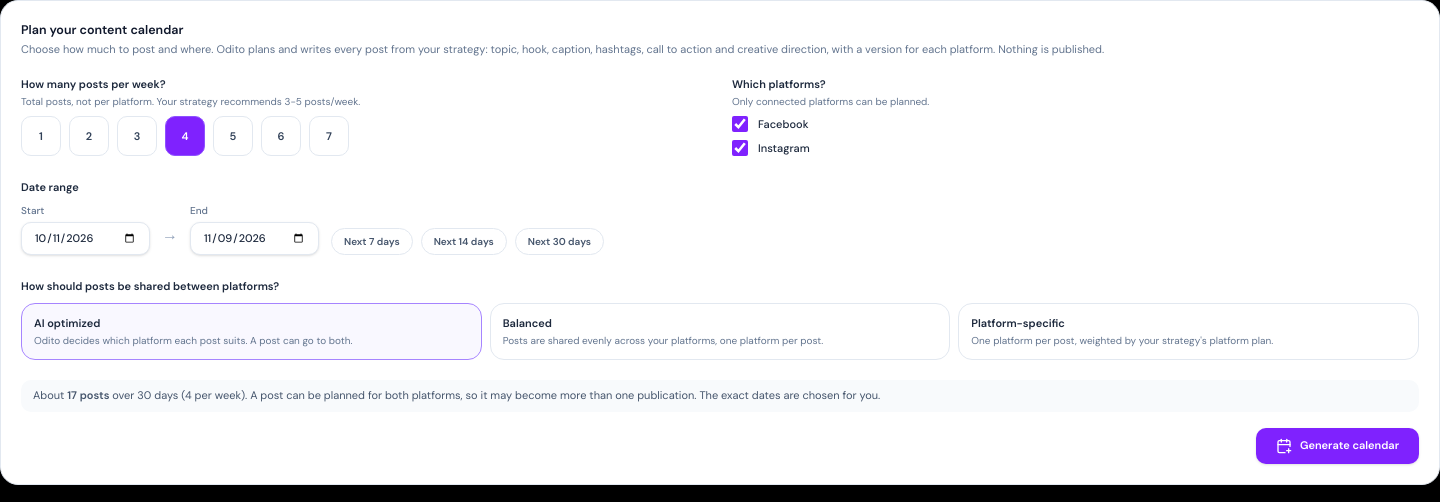
Scenario: Content plan — the planning form › summarises how many posts to expect and never doubles them per platform
The image size is (1440, 502).
Click the radio button named "2 posts per week".
click(89, 136)  # box [69, 116, 109, 156]
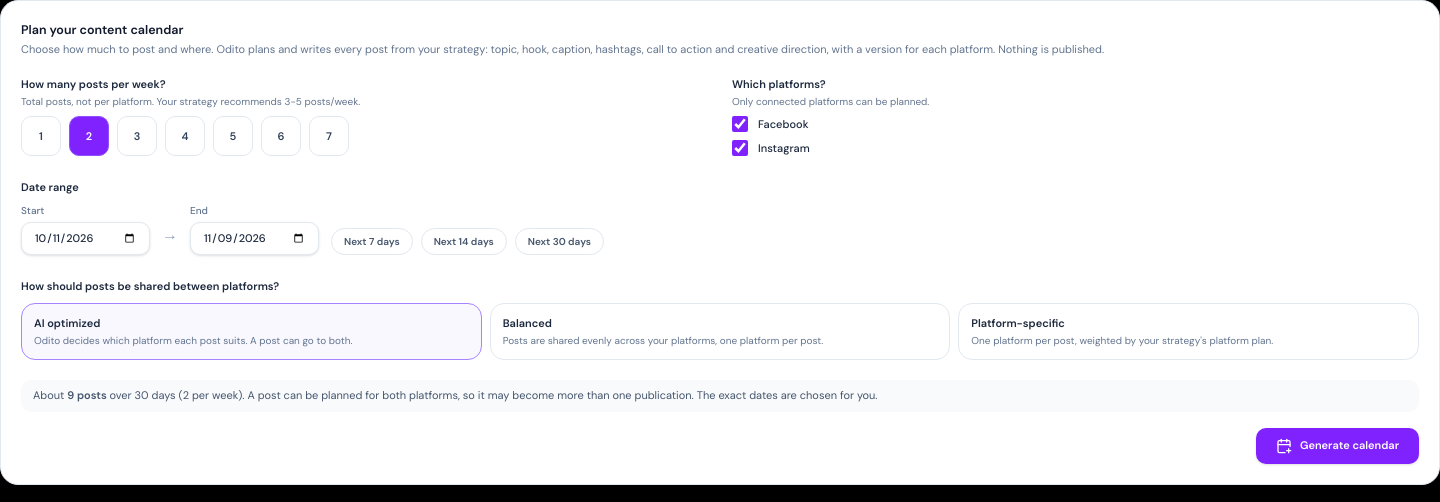
Click the button "Next 14 days".
click(464, 242)  # box [421, 228, 507, 255]
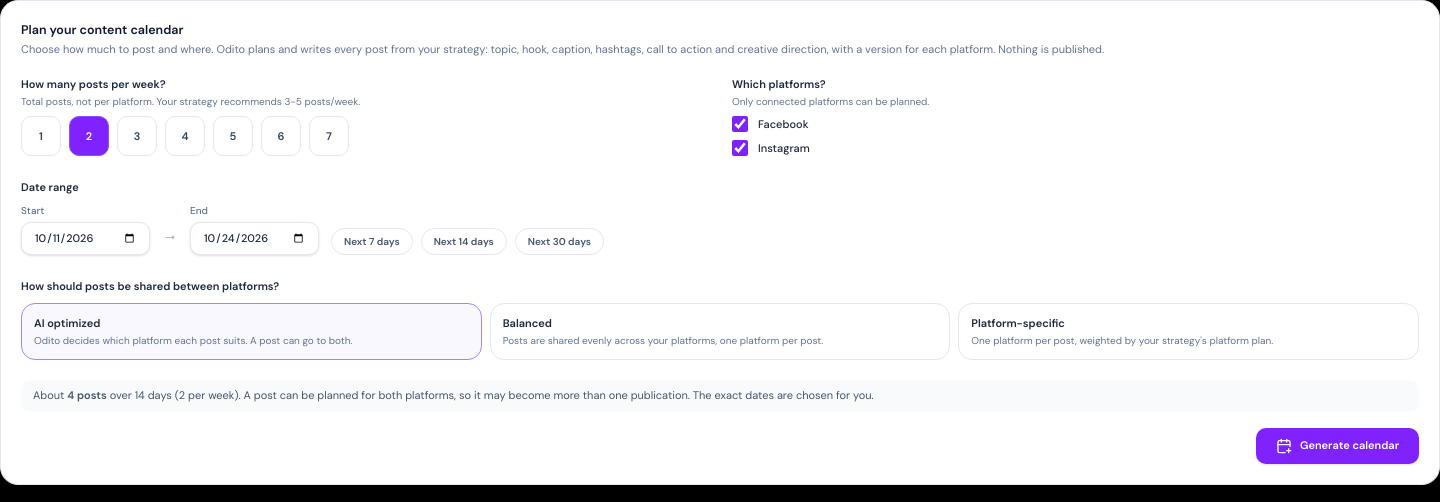
Check: the element with test id "plan-summary" shows "may become more than one publication", box [238, 388, 690, 402]
Check: the element with test id "plan-summary" shows "About 4 posts over 14 days (2 per week)", box [21, 380, 1419, 412]
